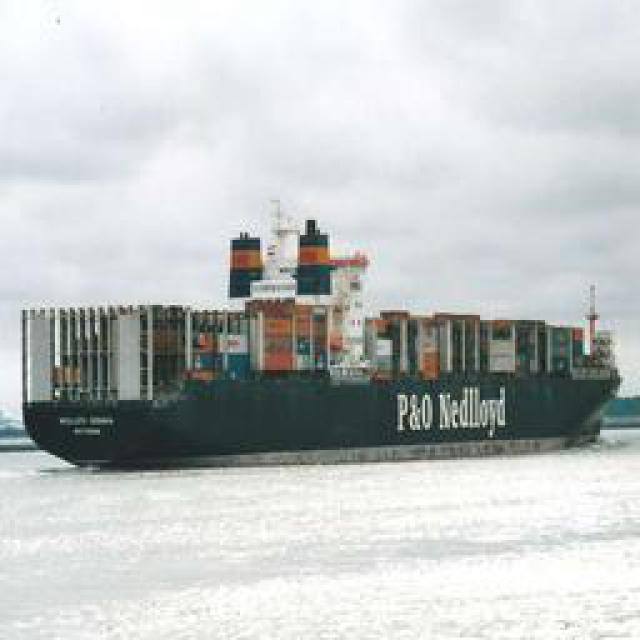Ship: (24, 192, 627, 460)
